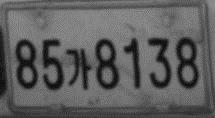1: (122, 36, 142, 90)
3: (147, 36, 172, 89)
5: (41, 38, 64, 91)
8: (93, 37, 120, 90), (174, 36, 199, 89), (14, 38, 38, 89)
가: (65, 47, 92, 90)
